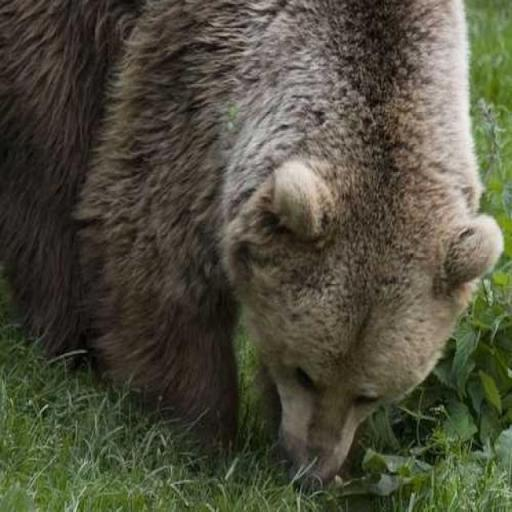Bear: (0, 0, 505, 495)
